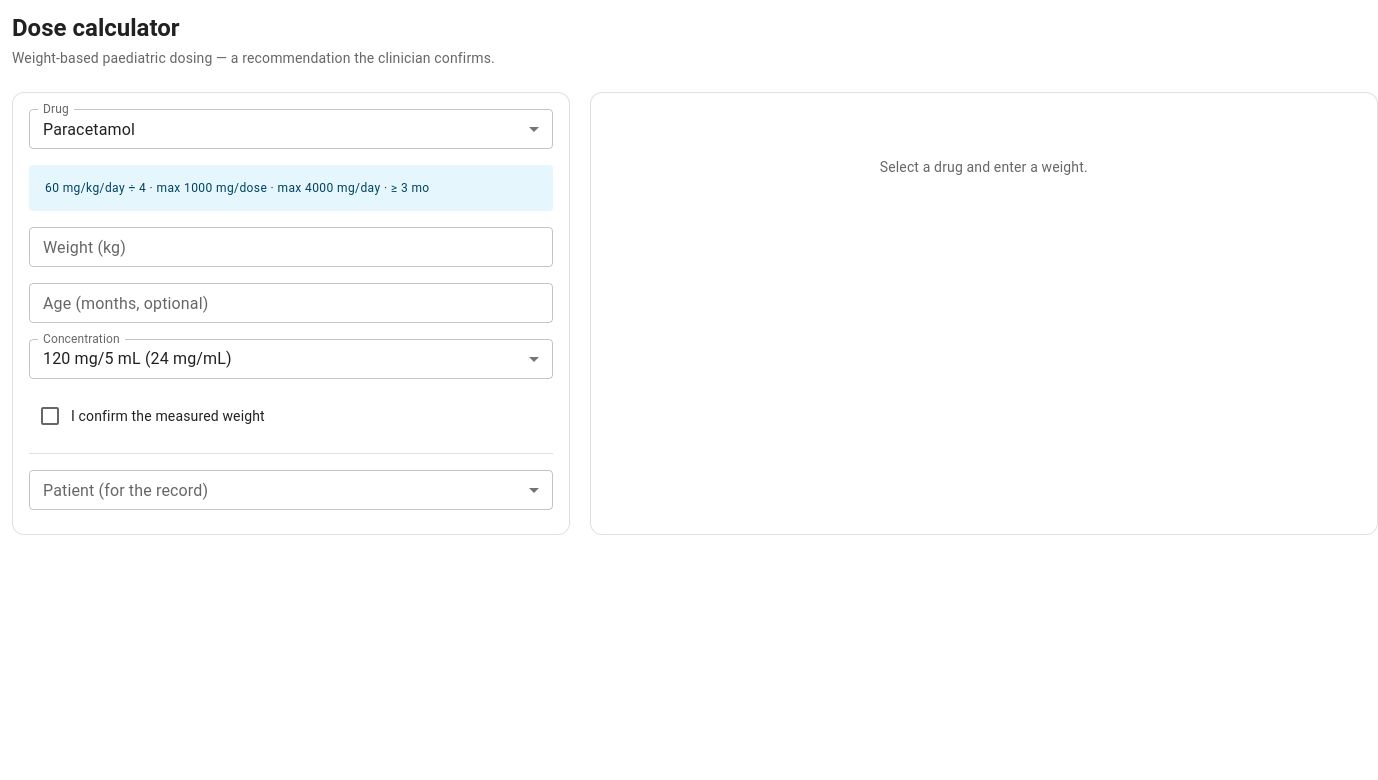
Scenario: a dose that was not recorded says so on the screen that ordered it › shows the server’s refusal as NOT recorded, and does not look like a success
Check: the dropdown named "Drug" reads "Paracetamol", box [43,120,135,138]
Type "14" into the number field labelled "Weight (kg)" at (291, 247), box [29,227,552,267]
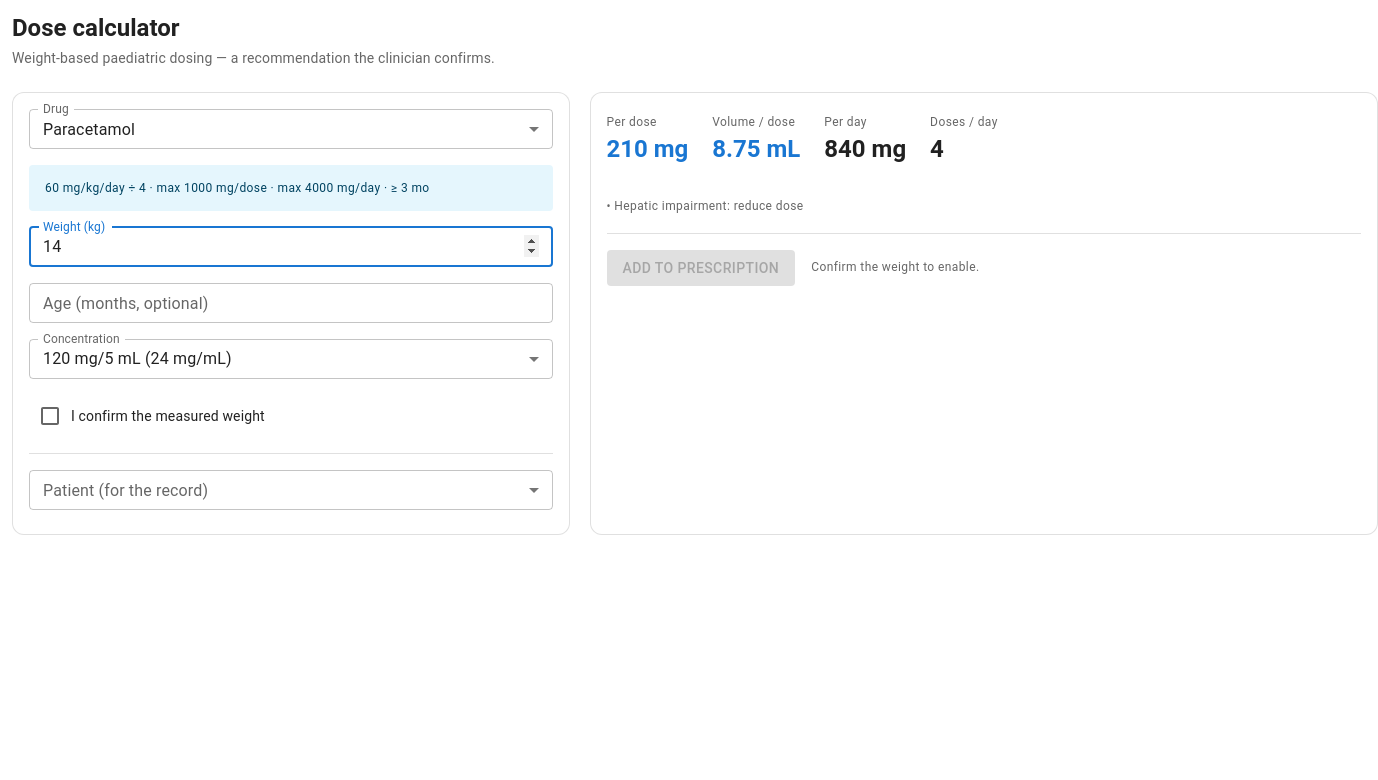
Check: the heading "210 mg" is shown, box [606,133,688,165]
Click the checkbox labelled "I confirm the measured weight" at (151, 416), box [38,404,265,428]
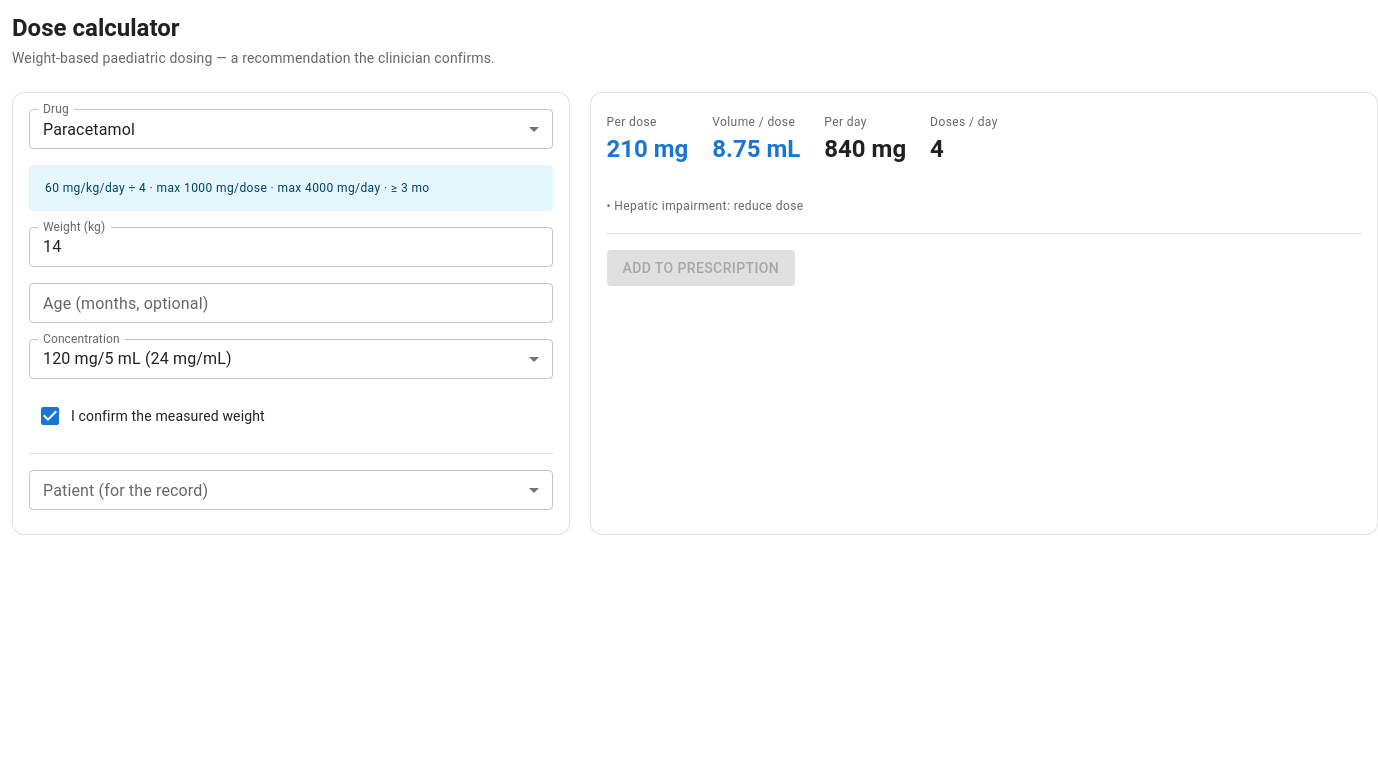
Click the dropdown named "Patient" at (291, 490), box [29,470,552,510]
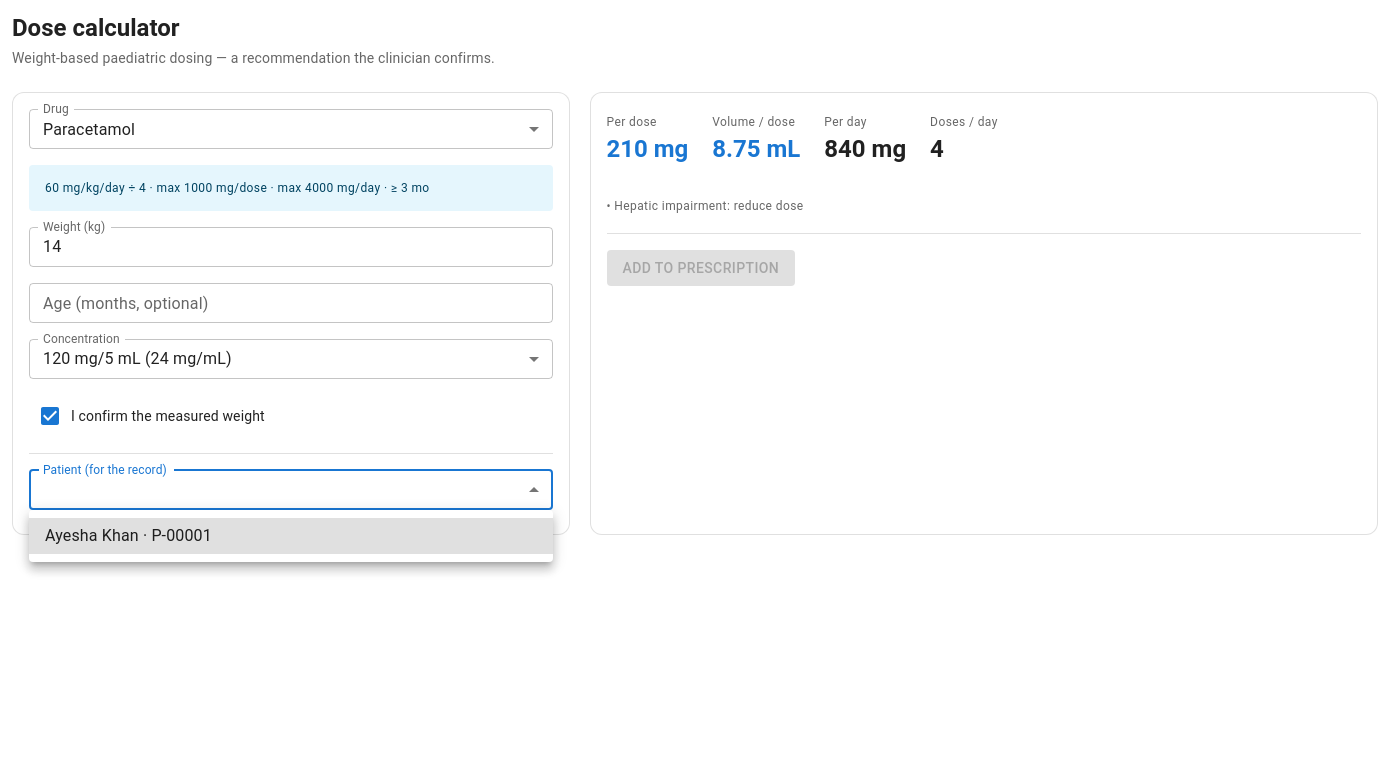
Click the option "Ayesha Khan · P-00001" at (92, 536), box [29,518,553,554]
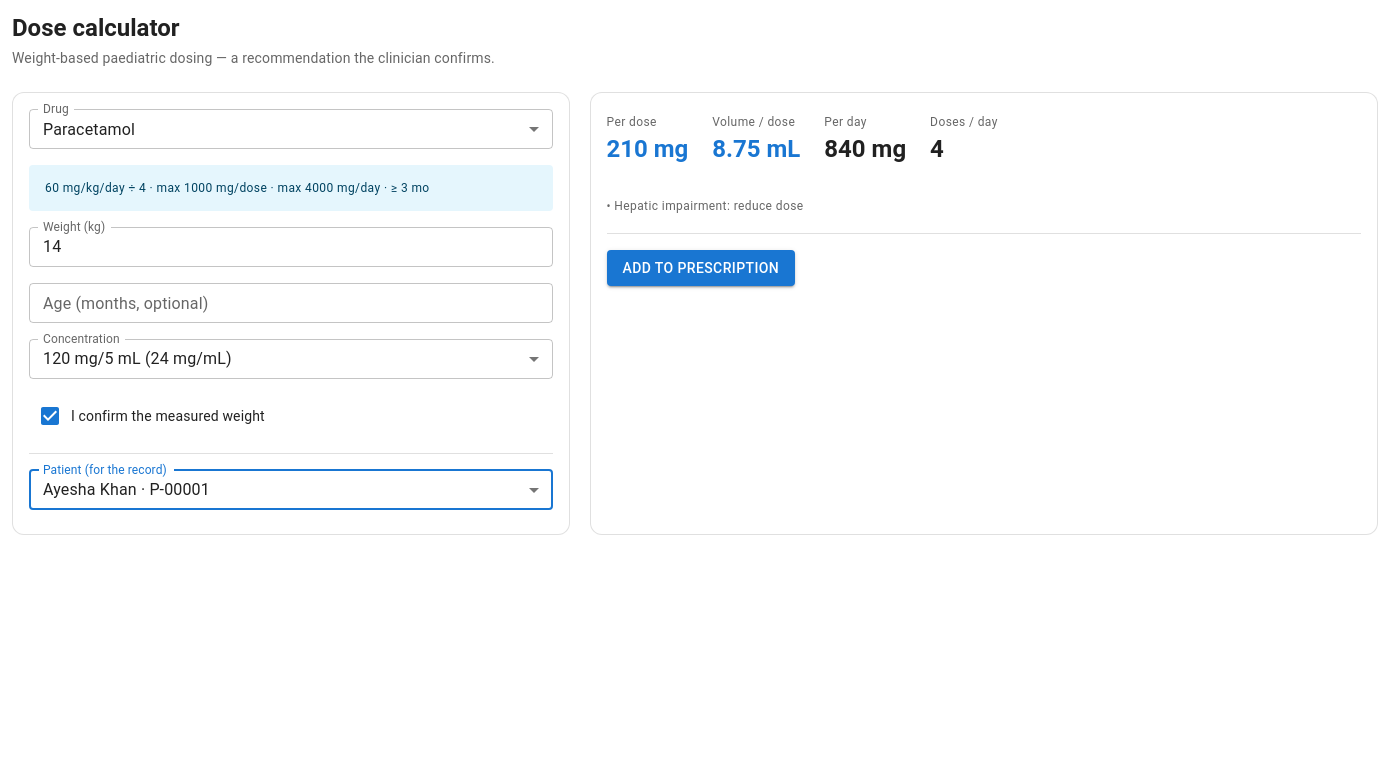
Click the button "Add to prescription" at (701, 268), box [606,250,795,286]
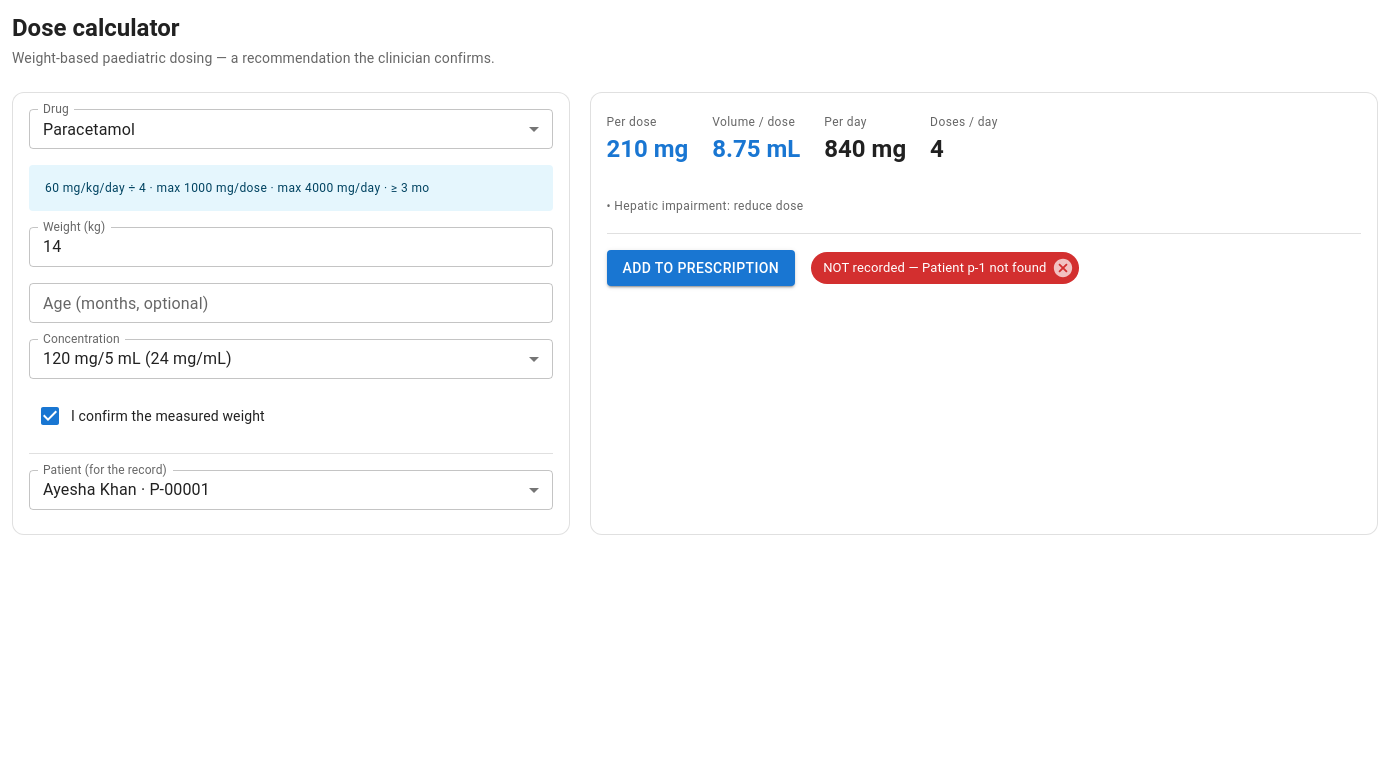
Check: the text "NOT recorded — Patient p-1 not found" is shown, box [811,258,1058,278]
